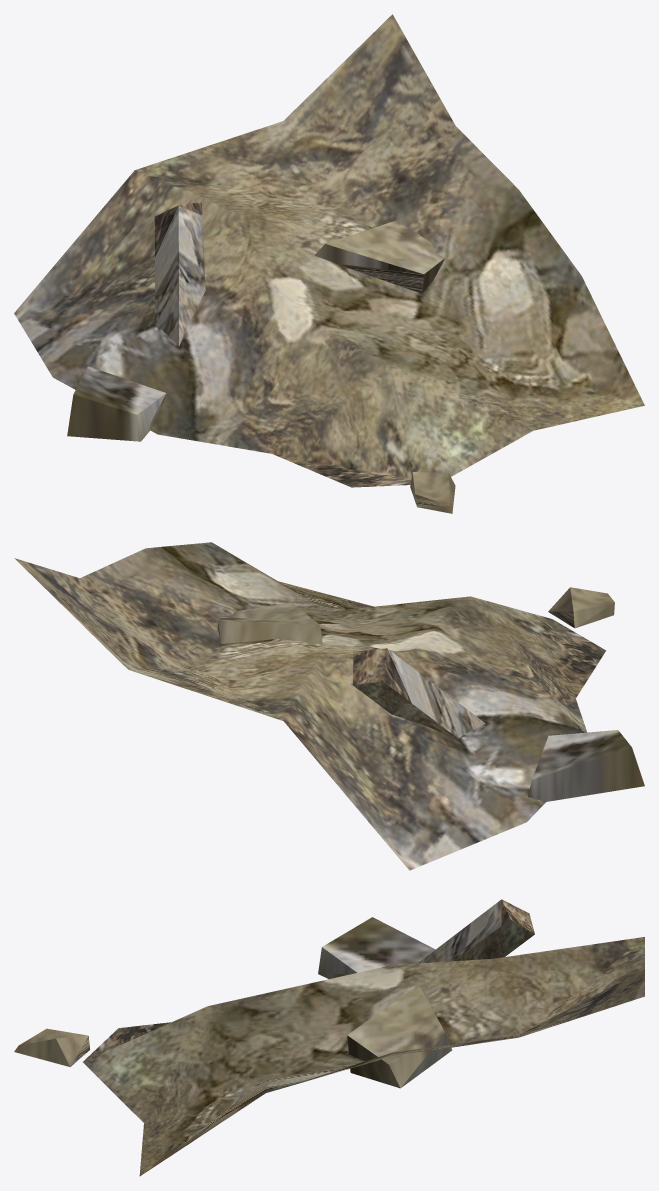
File: wdebris3.glb
3 views of the same model, one above another, from view 1: azimuth 30°, elevation 25°; view 2: azimuth 150°, elevation 25°; view 3: azimuth 270°, elevation 25° (orthographic). The views are drawn at different scales.
Parts seen in each view (by area): view 1: _wdebris3; view 2: _wdebris3; view 3: _wdebris3.
Part boxes in pixels (x1,y1,x2,y2): _wdebris3: (14, 14, 644, 513); _wdebris3: (14, 542, 644, 870); _wdebris3: (14, 899, 644, 1176).
Size of the model in its own units: 2.13 by 0.9045 by 2.5.
Materials: 1 (1 with a texture image).
